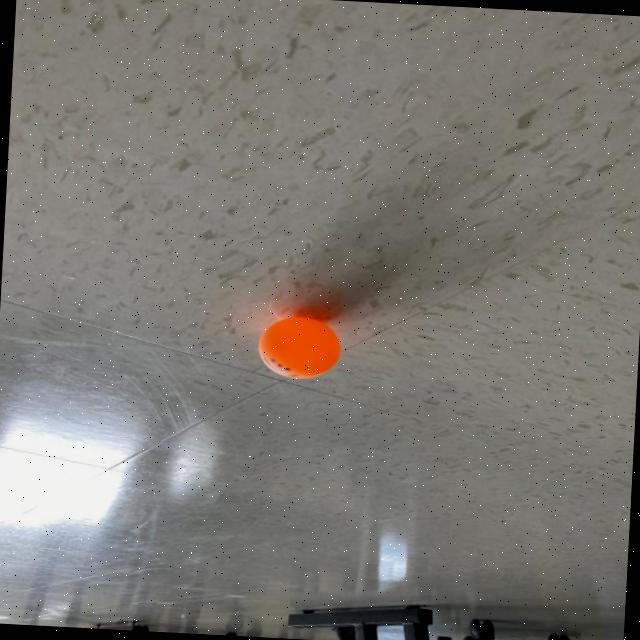ping-pong-ball: (254, 313, 346, 386)
